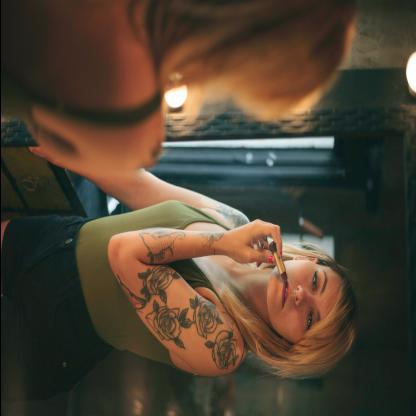Eye: (310, 269, 322, 293), (305, 312, 315, 332)
Mouth: (278, 278, 290, 310)
Nose: (294, 286, 315, 308)
